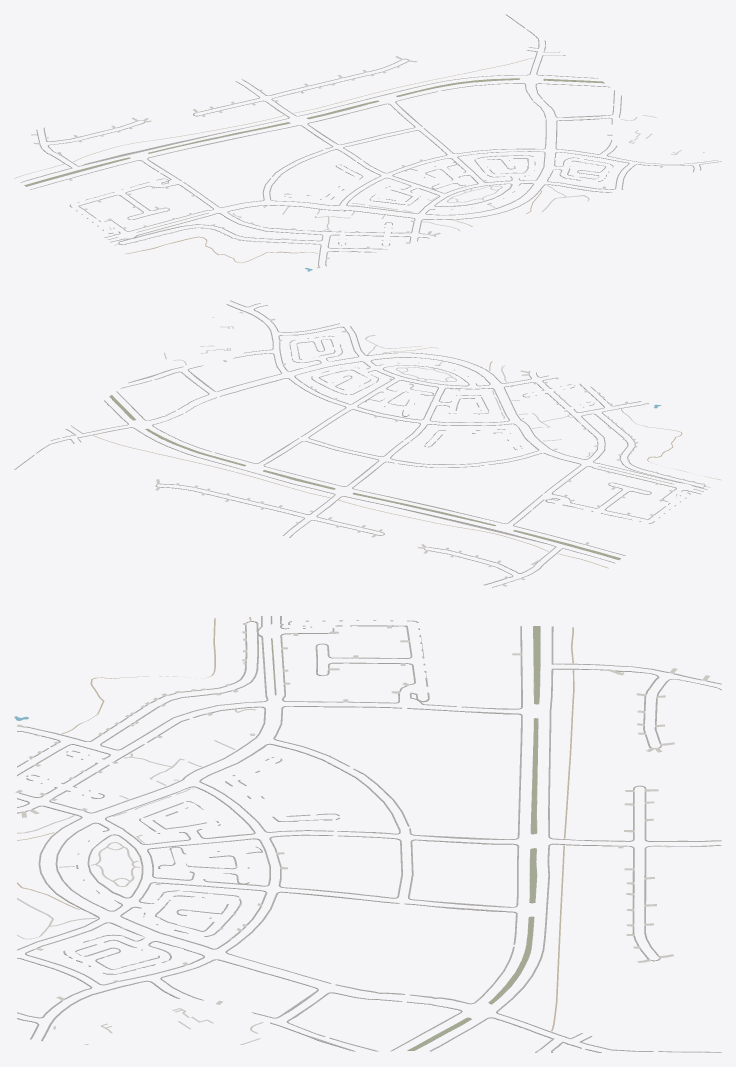
File: ground_r3_c3.glb
The picture shows the model from 3 angles, top to bottom: view 1: azimuth 30°, elevation 25°; view 2: azimuth 150°, elevation 25°; view 3: azimuth 270°, elevation 25°; orthographic projection. The views are drawn at different scales.
Visible parts, largest first — view 1: sidewalks, paths, medians, driveways; view 2: sidewalks, paths, medians, driveways; view 3: sidewalks, paths, medians, driveways.
Boxes of the visible parts, bbox=[...] form: sidewalks: bbox=[20, 14, 721, 266]; paths: bbox=[14, 57, 704, 262]; medians: bbox=[24, 78, 604, 239]; driveways: bbox=[31, 55, 663, 268]; sidewalks: bbox=[14, 300, 706, 587]; paths: bbox=[93, 312, 721, 568]; medians: bbox=[109, 395, 703, 559]; driveways: bbox=[72, 318, 704, 586]; sidewalks: bbox=[17, 616, 721, 1052]; paths: bbox=[17, 617, 574, 1044]; medians: bbox=[270, 616, 540, 1050]; driveways: bbox=[15, 623, 709, 1051].
Bounding box in the file's own units: 1125 × 23.01 × 791.
